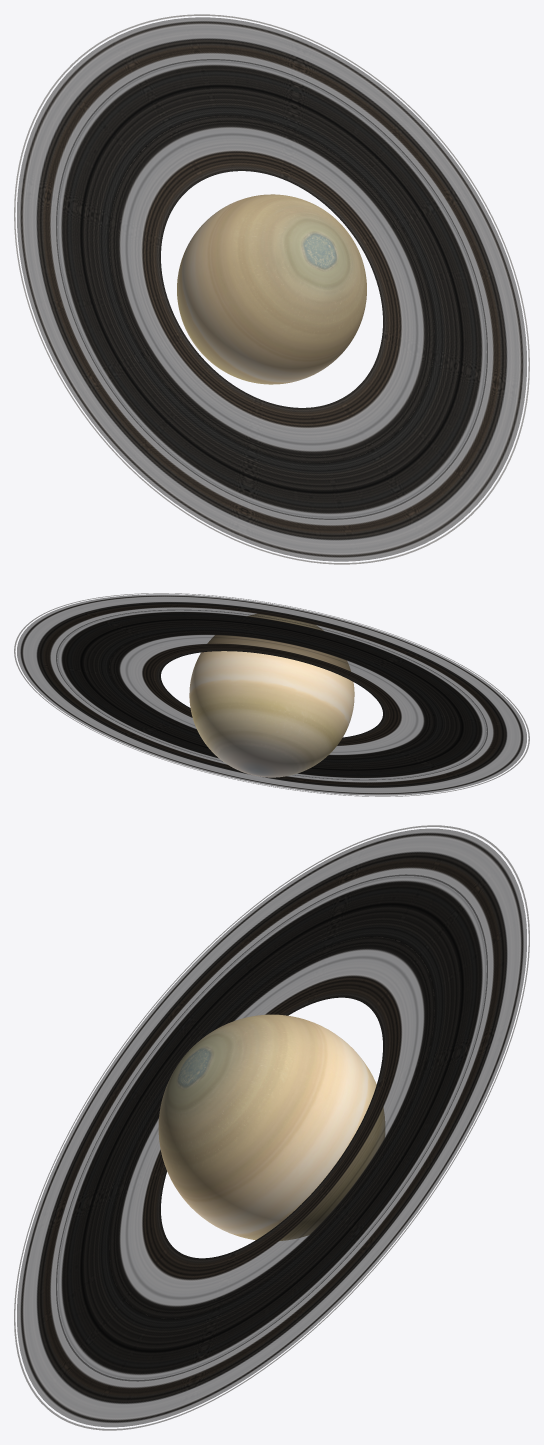
The model's file is sm_saturn.glb.
3 renders of one model, top to bottom at view 1: azimuth 30°, elevation 25°; view 2: azimuth 150°, elevation 25°; view 3: azimuth 270°, elevation 25°, orthographic. The views are drawn at different scales.
Visible parts, largest first — view 1: ring, saturn; view 2: ring, saturn; view 3: ring, saturn.
Boxes of the visible parts, box(x1,y1,x2,y2) form: ring: box(14, 14, 529, 564); saturn: box(177, 194, 366, 384); ring: box(14, 593, 529, 796); saturn: box(189, 614, 354, 777); ring: box(14, 825, 529, 1430); saturn: box(158, 1014, 385, 1240).
Size of the model in its own units: 67.03 by 49.53 by 48.99.
2 materials, 2 textured.
